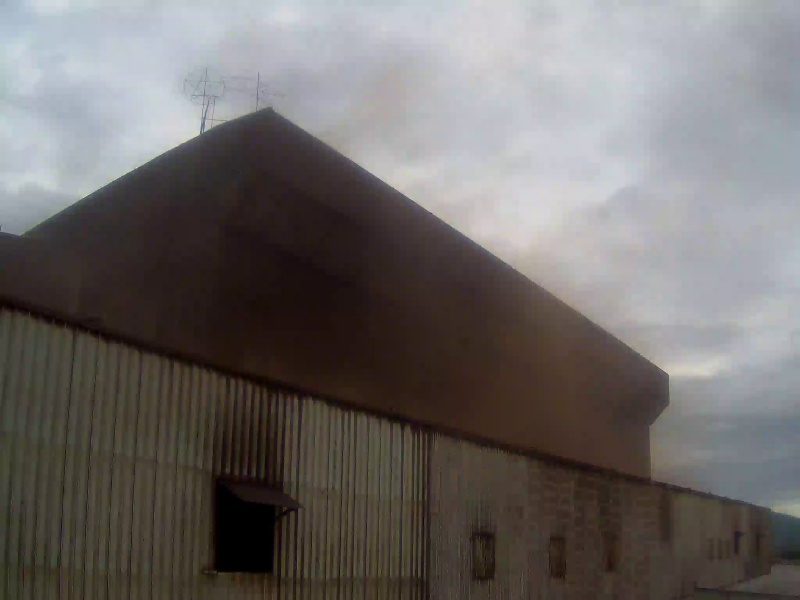bom: (2, 12, 263, 168)
ruim: (268, 55, 703, 486)
